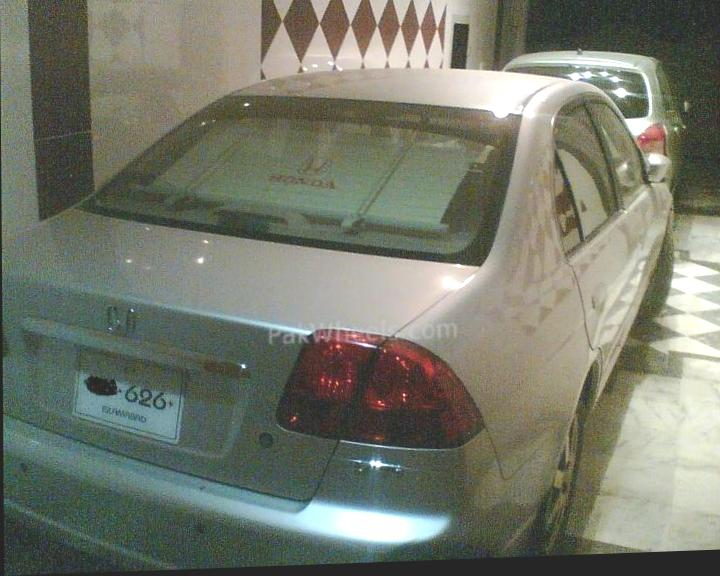License_Plate: (66, 330, 199, 463)
